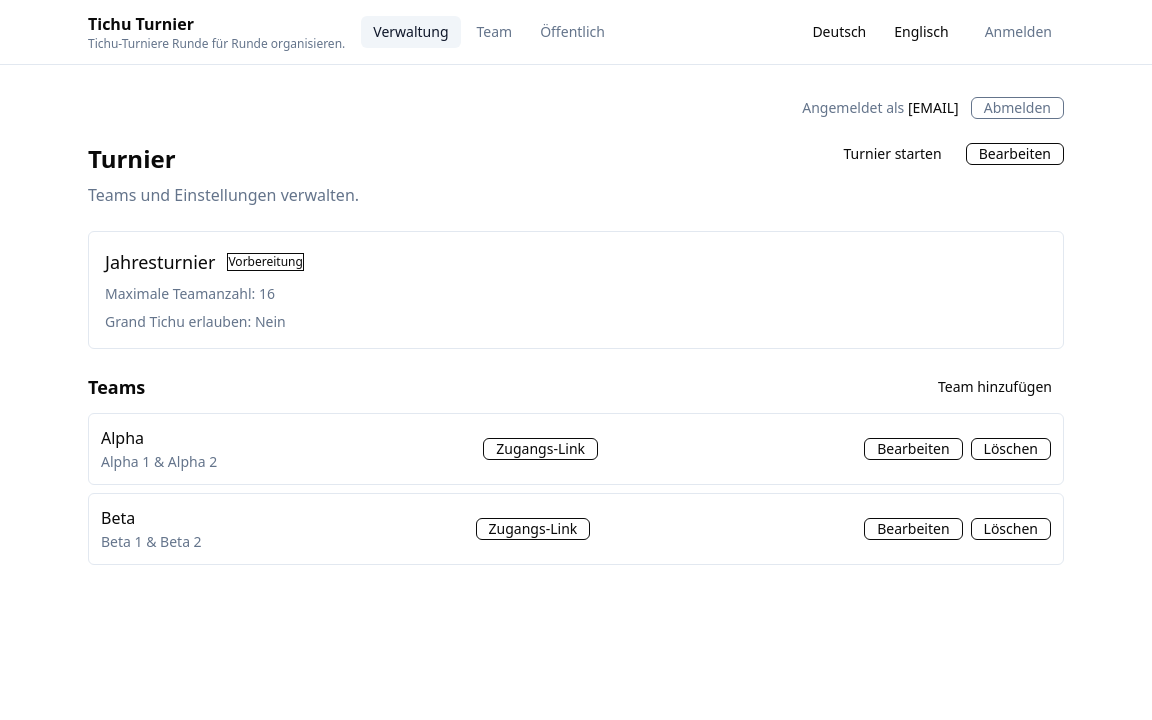
Test: admin start action › starts the tournament after confirmation and shows the ACTIVE badge
Click the button "Turnier starten": (893, 154) left=832, top=144, right=954, bottom=164
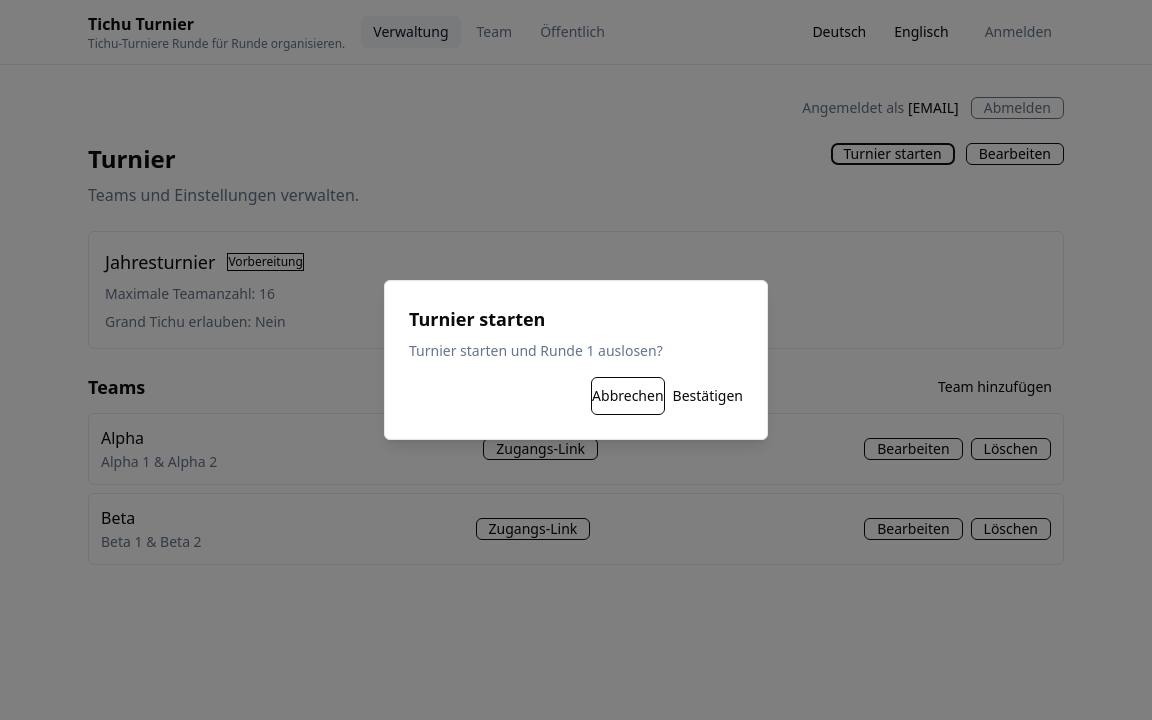
Click the button "Bestätigen": (708, 396) left=673, top=377, right=743, bottom=415
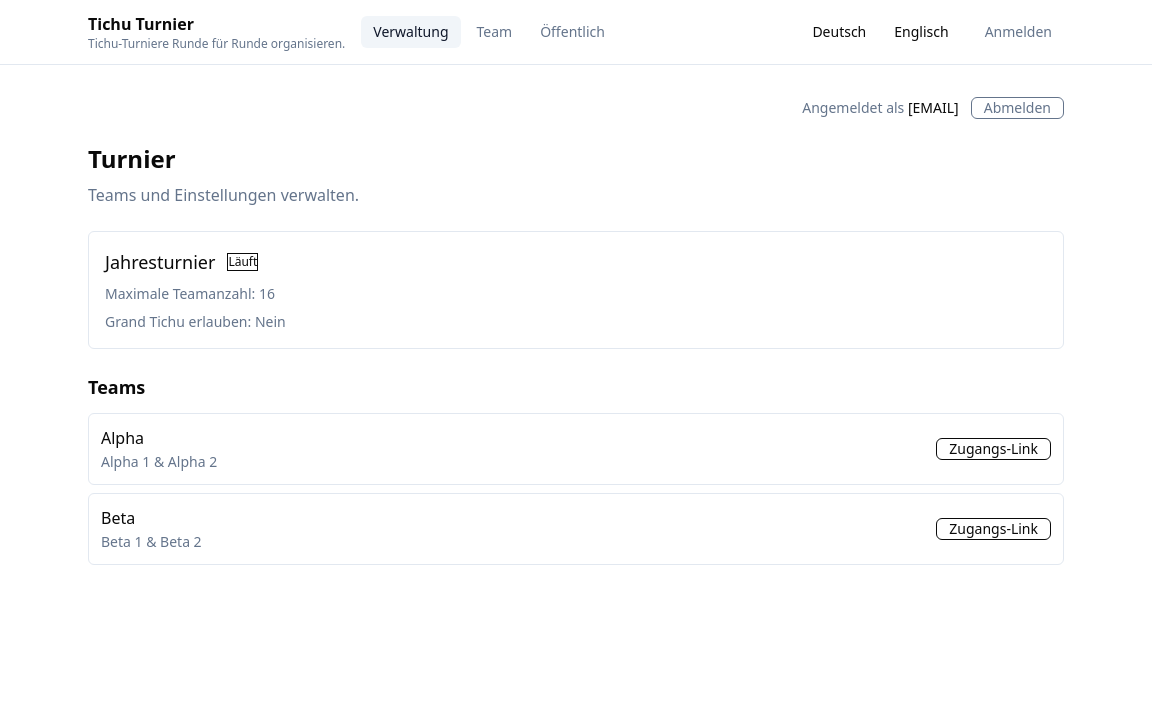
Now the text "Läuft" is shown, box left=227, top=253, right=258, bottom=271
